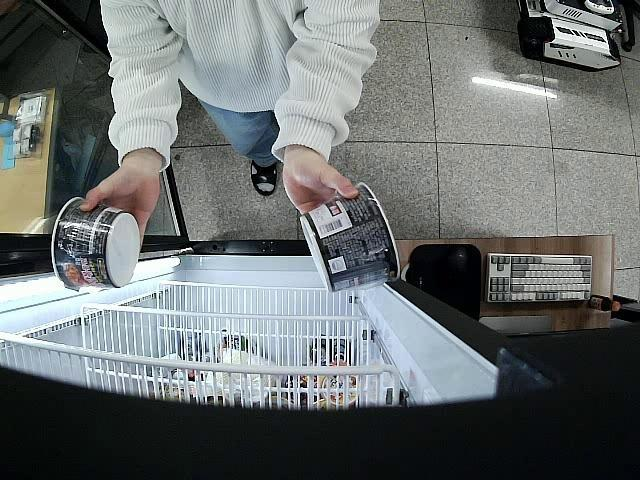07_buldak_L: (300, 184, 399, 294), (50, 196, 140, 292)
